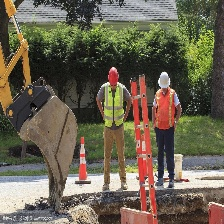helmet: (108, 65, 120, 88), (158, 71, 172, 90)
person: (95, 69, 134, 191), (151, 69, 182, 190)
vest: (101, 83, 124, 130), (157, 90, 174, 132)
